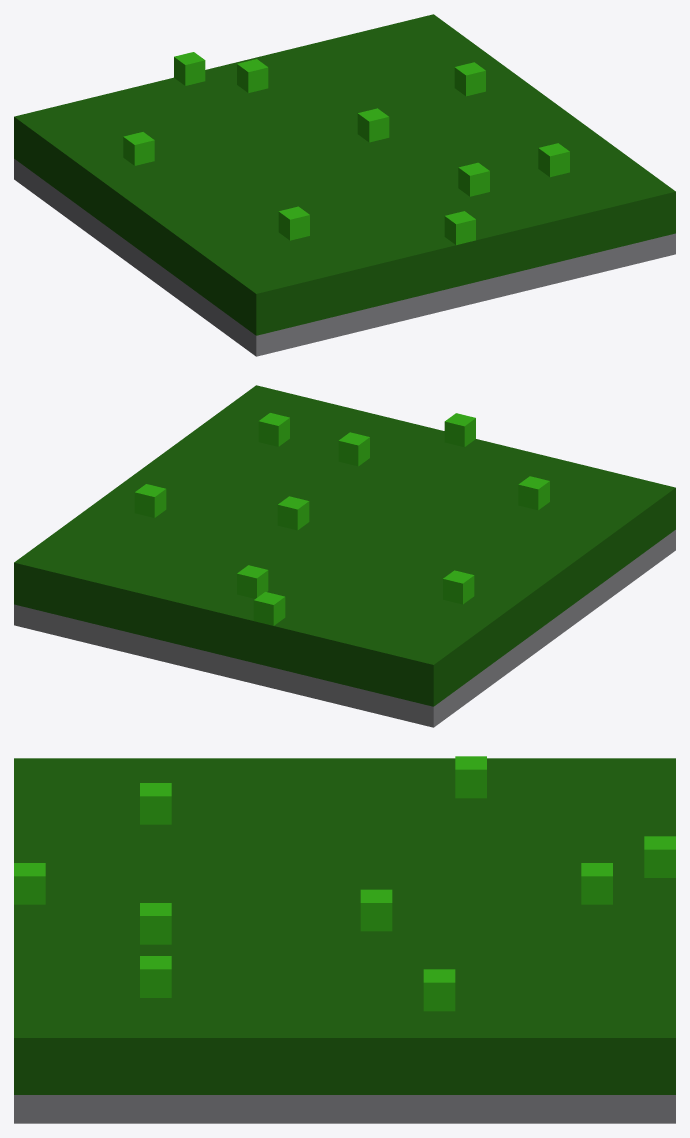
Rendered from grass4.obj.
The picture shows the model from 3 angles, top to bottom: view 1: azimuth 30°, elevation 25°; view 2: azimuth 150°, elevation 25°; view 3: azimuth 270°, elevation 25°; orthographic projection. The views are drawn at different scales.
Bounding box in the file's own units: 21 × 4 × 21.
1 material, 1 textured.
